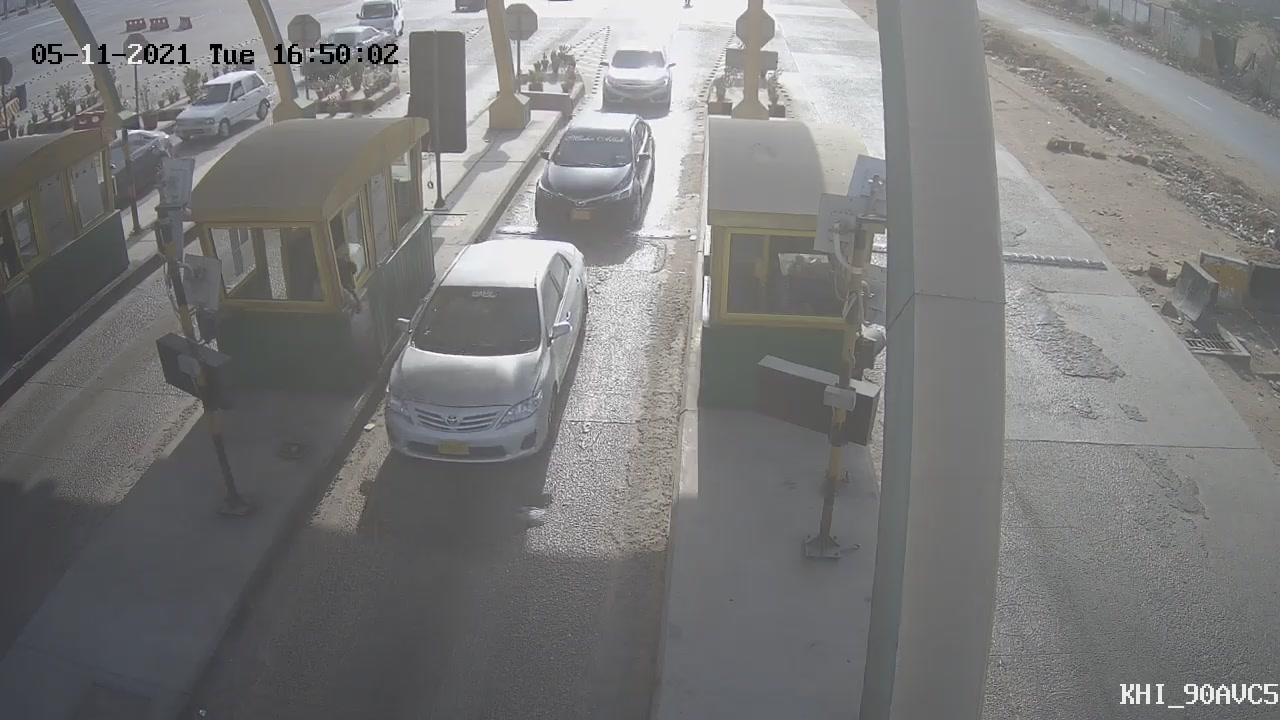F1: (359, 221, 611, 491), (516, 99, 676, 249)
